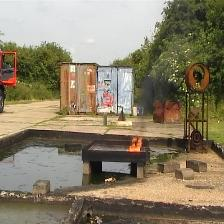fire: (127, 136, 142, 152)
